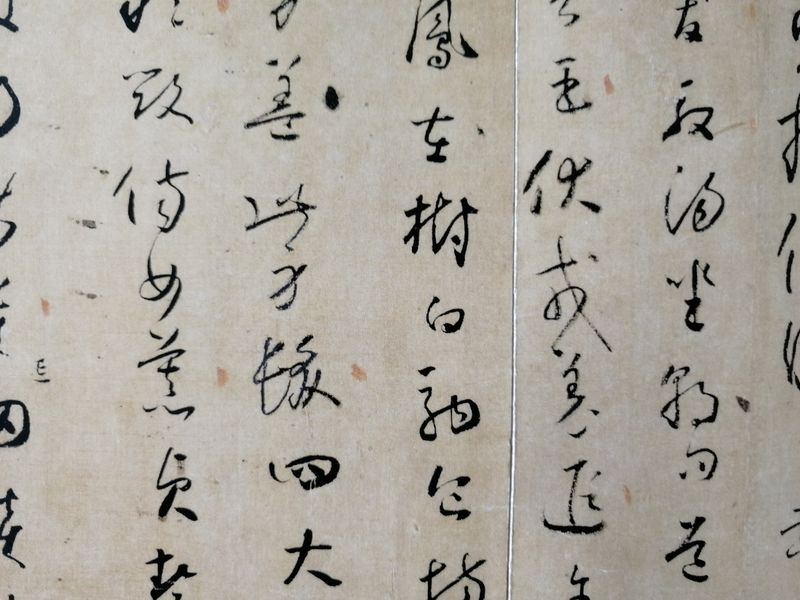zi: (536, 240, 622, 348), (253, 334, 345, 419), (403, 192, 481, 271), (411, 363, 486, 445), (248, 50, 310, 149), (521, 146, 604, 218), (404, 2, 479, 76), (542, 460, 612, 538), (116, 165, 190, 238), (117, 64, 197, 129), (140, 328, 194, 419), (664, 162, 725, 236), (656, 362, 724, 427), (279, 528, 347, 593), (659, 516, 722, 583), (152, 445, 204, 523), (553, 350, 600, 435), (242, 186, 321, 233), (666, 78, 718, 147), (667, 260, 714, 333), (546, 53, 596, 120), (136, 253, 189, 316), (262, 451, 342, 492), (414, 557, 489, 600), (410, 106, 461, 168), (145, 545, 195, 600), (427, 465, 472, 522), (271, 242, 306, 311), (117, 1, 185, 36), (1, 488, 25, 573), (421, 293, 468, 331), (1, 395, 34, 449), (670, 1, 708, 46), (677, 443, 718, 483)
